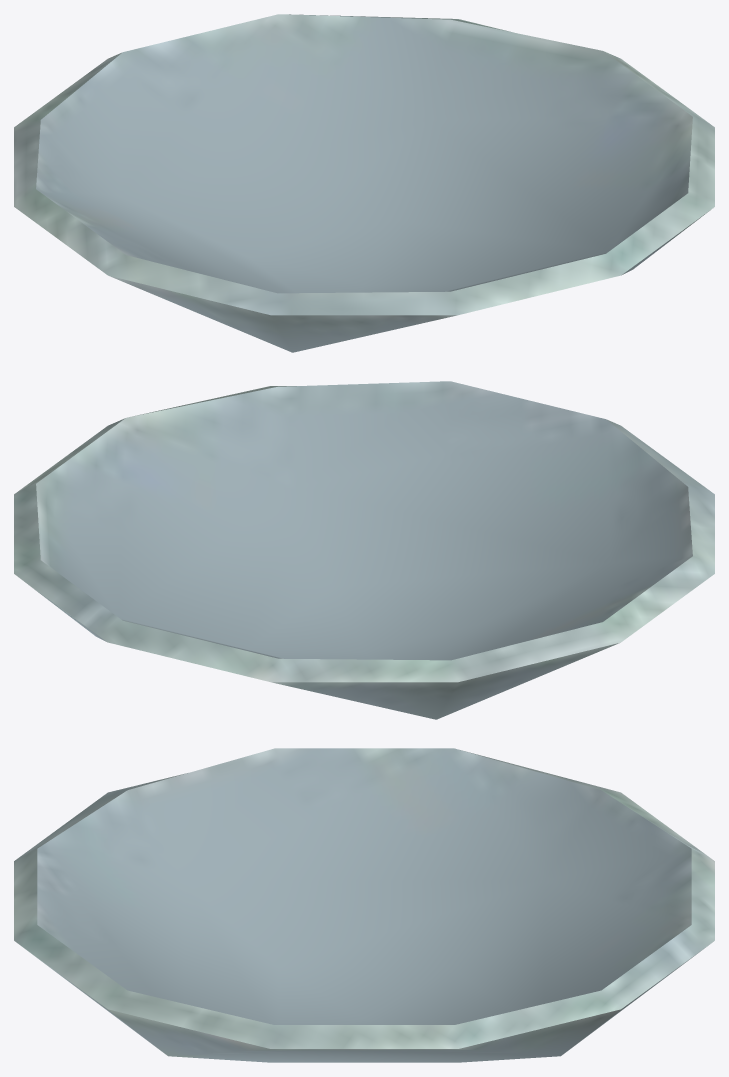
The model's file is basin.glb.
3 views of the same model, one above another, from view 1: azimuth 30°, elevation 25°; view 2: azimuth 150°, elevation 25°; view 3: azimuth 270°, elevation 25° (orthographic).
Parts seen in each view (by area): view 1: StoneBowl.001; view 2: StoneBowl.001; view 3: StoneBowl.001.
Boxes of the visible parts, x1,y1,x2,y2 form: StoneBowl.001: (14,14,714,352); StoneBowl.001: (14,381,714,719); StoneBowl.001: (14,748,714,1062).
Bounding box in the file's own units: 0.8599 × 0.2054 × 0.8599.
1 material, 1 textured.
